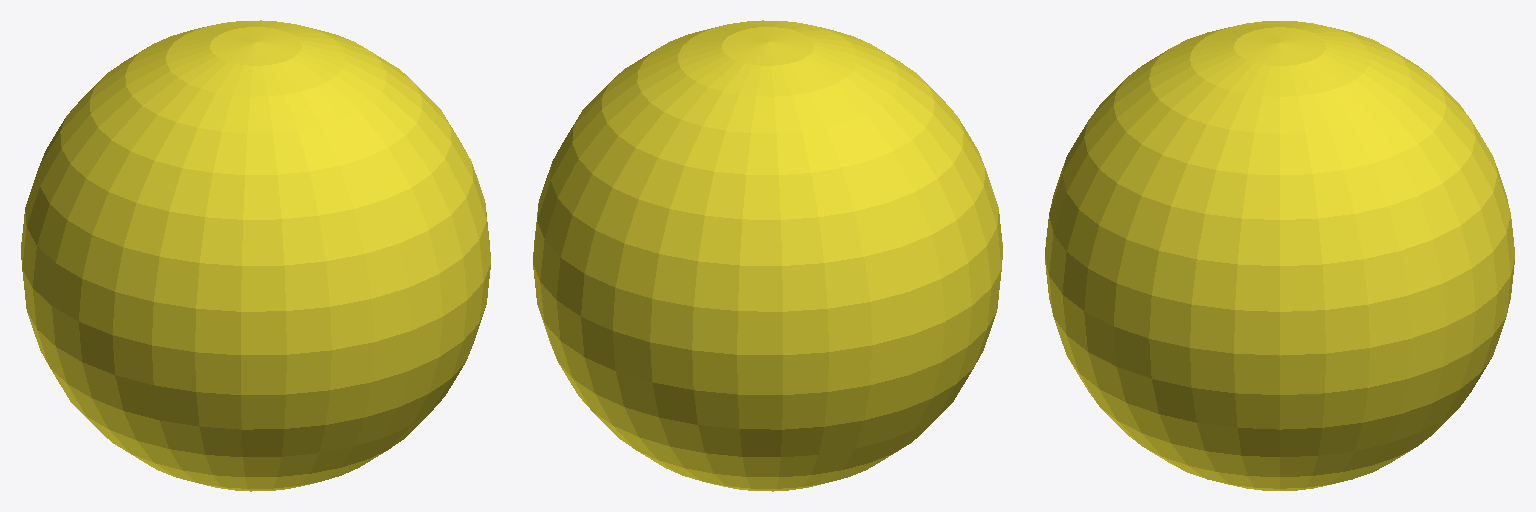
URDF robot description (robot1:sphere):
<?xml version="1.0" ?>
<robot name="robot1:sphere" xmlns:xacro="http://www.ros.org/wiki/xacro">
  <!-- 
    virtual joint
  -->
  <link name="robot1:root">
    <visual>
      <origin xyz="0 0 0"/>
    </visual>
  </link>
  <link name="robot1:basex">
    <visual>
      <origin xyz="0 0 0"/>
    </visual>
  </link>
  <link name="robot1:basey">
    <visual>
      <origin xyz="0 0 0"/>
    </visual>
  </link>
  <joint name="robot1:move_x" type="prismatic">
    <origin rpy="0 0 0" xyz="0.0 0 0.0"/>
    <parent link="robot1:root"/>
    <child link="robot1:basex"/>
    <axis xyz="1 0 0"/>
    <limit effort="5" lower="-1." upper="1." velocity="1.0"/>
  </joint>
  <joint name="robot1:move_y" type="prismatic">
    <origin rpy="0 0 0" xyz="0.0 0.0 0.0"/>
    <parent link="robot1:basex"/>
    <child link="robot1:basey"/>
    <axis xyz="0 1 0"/>
    <limit effort="5" lower="-1." upper="1." velocity="1.0"/>
  </joint>
  <joint name="robot1:move_z" type="prismatic">
    <origin rpy="0 0 0" xyz="0.0 0.0 0.0"/>
    <parent link="robot1:basey"/>
    <child link="robot1:sphere_link"/>
    <axis xyz="0 0 1"/>
    <limit effort="5" lower="-1." upper="1." velocity="1.0"/>
  </joint>

  <link name="robot1:sphere_link">
    <inertial>
      <origin xyz="0 0 0" />
      <mass value="1.0" />
    </inertial>
    <visual>
      <geometry>
        <sphere radius="0.02"/>
      </geometry>
    </visual>
    <collision>
      <geometry>
        <sphere radius="0.02"/>
      </geometry>
    </collision>
  </link>
</robot>

--- What the picture shows (computed from the rendered views, not written in the file) ---
Views: 3 orthographic renders of the robot side by side, from view 1: azimuth 30°, elevation 25°; view 2: azimuth 150°, elevation 25°; view 3: azimuth 270°, elevation 25°.
Robot: robot1:sphere — 4 links, 3 joints (3 prismatic); root link robot1:root; default pose: every joint at zero.
Visible links, largest first — view 1: robot1:sphere_link; view 2: robot1:sphere_link; view 3: robot1:sphere_link.
Boxes of the visible links, x1=… form: robot1:sphere_link: x1=21, y1=20, x2=490, y2=491; robot1:sphere_link: x1=533, y1=20, x2=1002, y2=491; robot1:sphere_link: x1=1045, y1=21, x2=1514, y2=490.
Size in the robot's own frame: 0.04 by 0.04 by 0.04 metres.
Geometry: primitives only (box / cylinder / sphere), no mesh files.